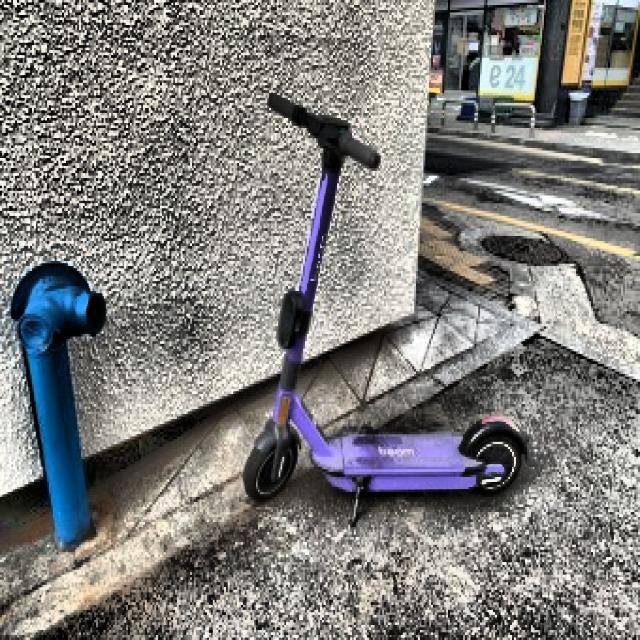bike: (241, 92, 530, 525)
